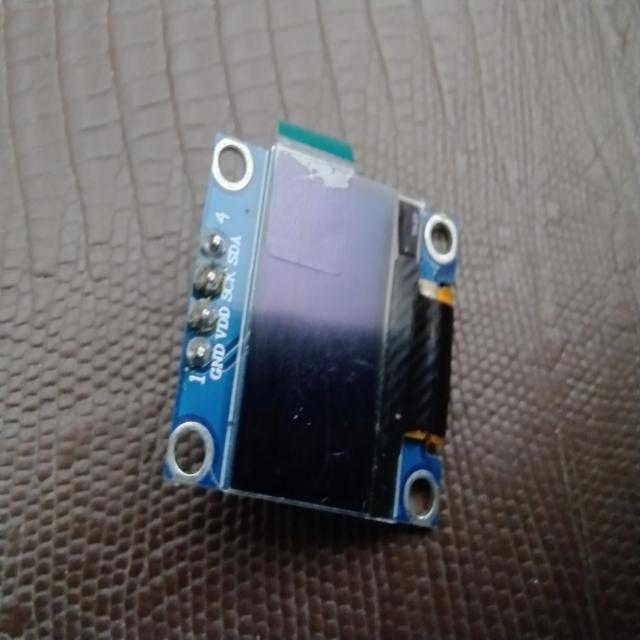oled: (158, 105, 459, 542)
